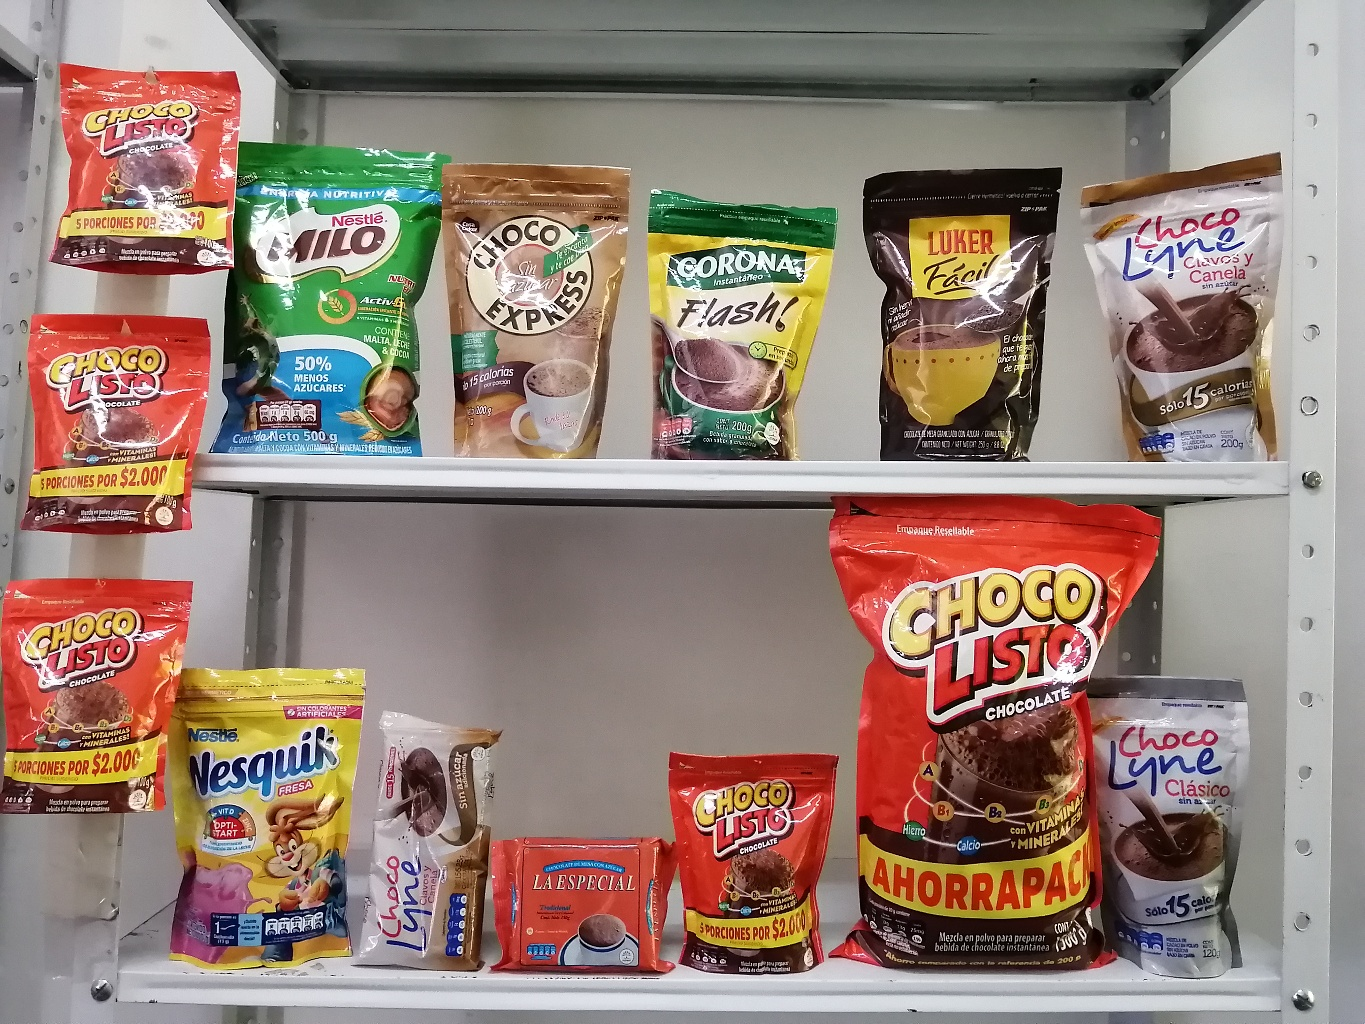COL0170103DYP1,500: (820, 485, 1144, 986)
COL0170205DYP50000: (221, 127, 436, 463)
COL0170305DYP20000: (163, 659, 357, 967)
